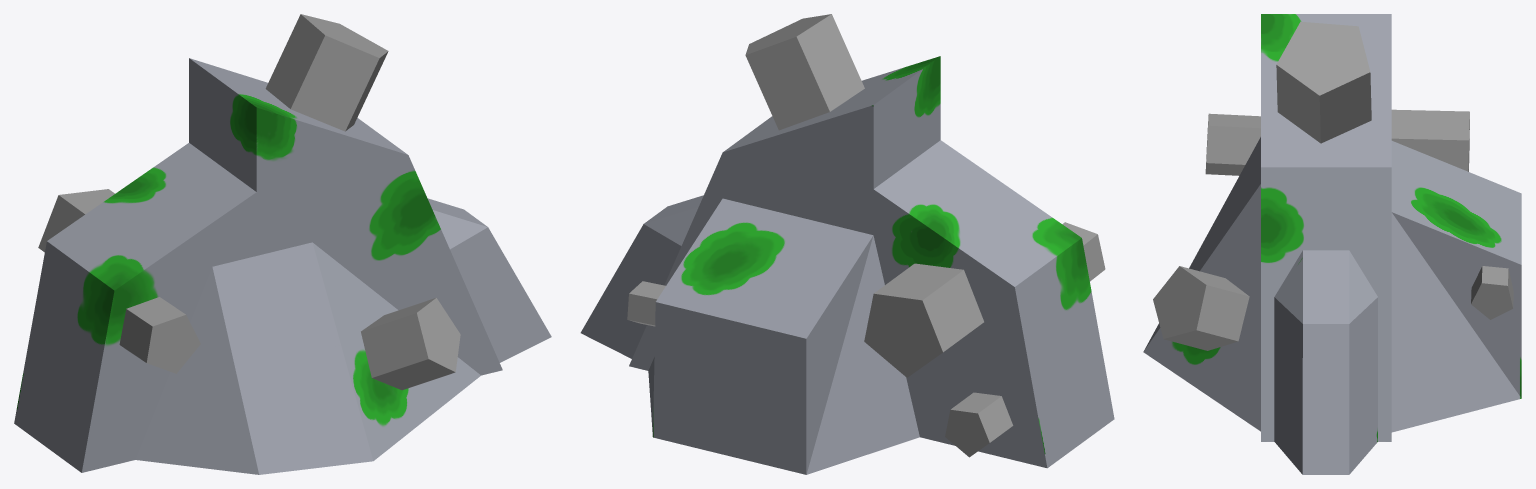
Rendered from HierroMusgoTipo2.fbx.
The picture shows the model from 3 angles, left to right: view 1: azimuth 30°, elevation 25°; view 2: azimuth 150°, elevation 25°; view 3: azimuth 270°, elevation 25°; orthographic projection. The views are drawn at different scales.
Parts seen in each view (by area): view 1: base.044, hierro.022, hierro.023, hierro.020, hierro.025; view 2: base.044, hierro.025, hierro.022, hierro.024, hierro.021, hierro.020; view 3: base.044, hierro.022, hierro.023, hierro.025, hierro.020, hierro.021.
Part boxes in pixels (x1=…): base.044: x1=14, y1=58, x2=551, y2=474; hierro.022: x1=265, y1=14, x2=388, y2=131; hierro.023: x1=361, y1=297, x2=460, y2=390; hierro.020: x1=119, y1=297, x2=200, y2=373; hierro.025: x1=38, y1=189, x2=114, y2=252; base.044: x1=580, y1=56, x2=1114, y2=474; hierro.025: x1=864, y1=263, x2=983, y2=377; hierro.022: x1=745, y1=14, x2=864, y2=130; hierro.024: x1=945, y1=392, x2=1013, y2=457; hierro.021: x1=627, y1=281, x2=665, y2=326; hierro.020: x1=1062, y1=222, x2=1105, y2=281; base.044: x1=1143, y1=14, x2=1521, y2=474; hierro.022: x1=1276, y1=21, x2=1371, y2=143; hierro.023: x1=1153, y1=266, x2=1249, y2=350; hierro.025: x1=1391, y1=109, x2=1469, y2=171; hierro.020: x1=1205, y1=113, x2=1260, y2=175; hierro.021: x1=1471, y1=266, x2=1513, y2=319.
Size of the model in its own units: 140 by 97.55 by 96.69.
